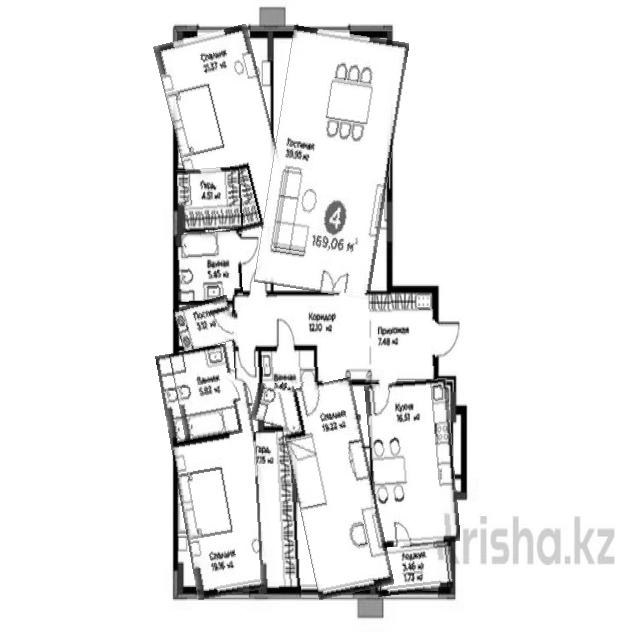balcony: (374, 543, 453, 595)
bathroom: (173, 346, 240, 441), (254, 345, 321, 431), (176, 231, 242, 301)
hallway: (233, 293, 435, 382)
kitchen: (368, 380, 457, 546)
living_room: (263, 29, 400, 297), (155, 25, 295, 228), (171, 343, 281, 600), (285, 379, 393, 600)
other: (256, 430, 300, 593), (177, 168, 242, 232), (176, 298, 237, 350)
